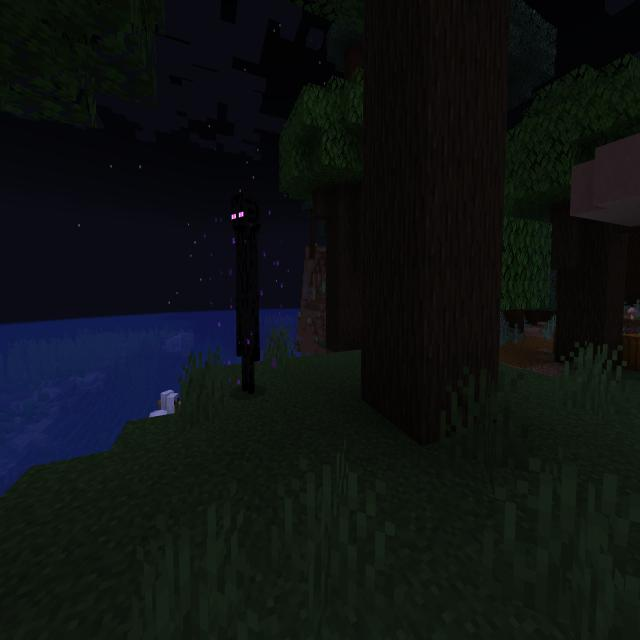Enderman: (229, 191, 263, 397)
